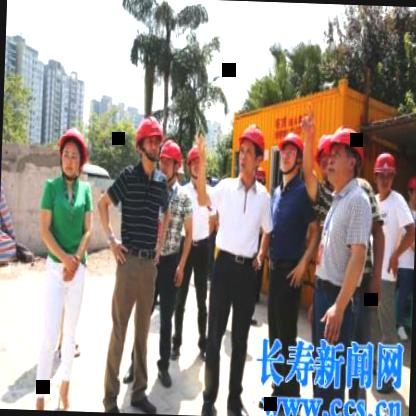helmet: (324, 121, 368, 188), (53, 122, 92, 179), (236, 122, 266, 184), (275, 130, 306, 184), (133, 115, 163, 167), (316, 127, 340, 184), (372, 151, 401, 195), (160, 139, 182, 183), (186, 136, 206, 184), (403, 169, 416, 207)
